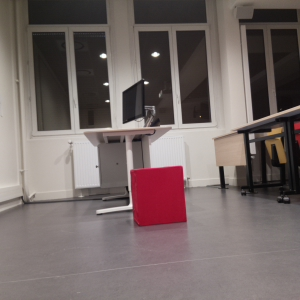medium: (130, 166, 188, 228)
